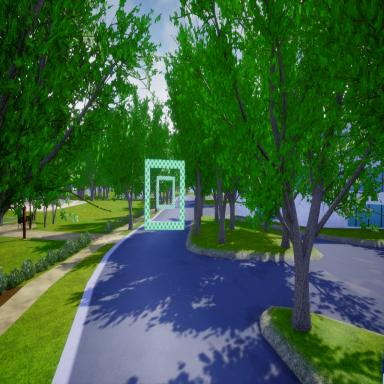gate: (144, 158, 185, 231), (156, 175, 176, 210)
